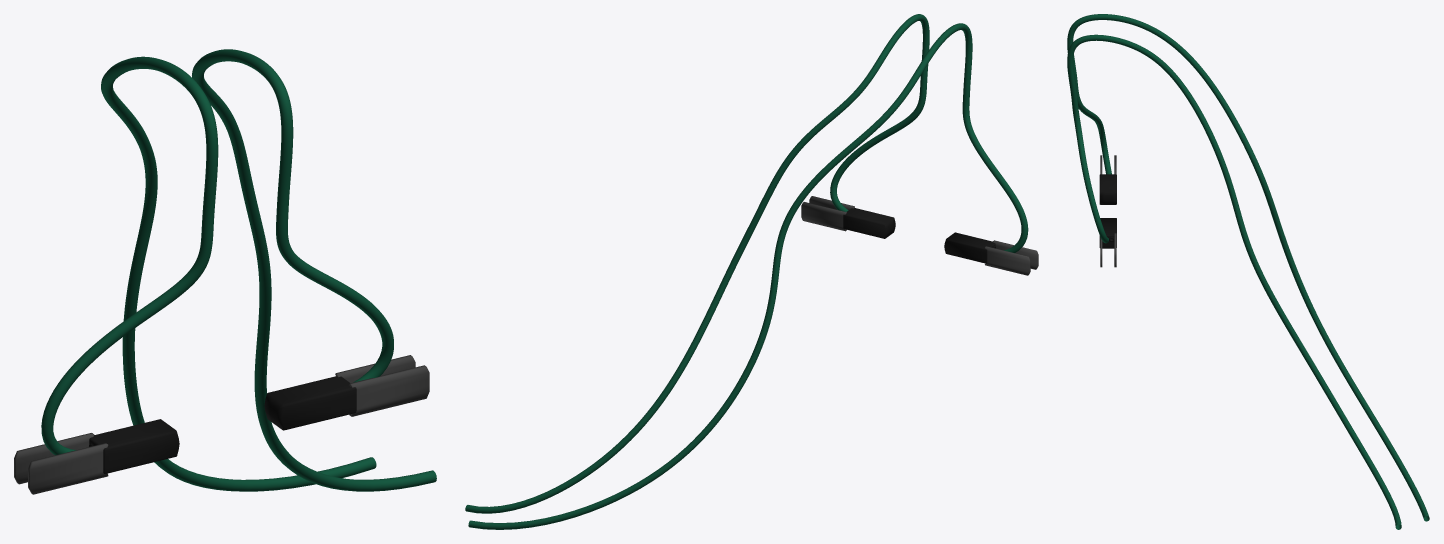
Rendered from Wires.fbx.
3 views of the same model, side by side, from view 1: azimuth 30°, elevation 25°; view 2: azimuth 150°, elevation 25°; view 3: azimuth 270°, elevation 25° (orthographic). The views are drawn at different scales.
Parts seen in each view (by area): view 1: wires; view 2: wires; view 3: wires.
Boxes of the visible parts, <box> form: wires: <box>14,49,436,494</box>; wires: <box>465,14,1038,529</box>; wires: <box>1067,14,1429,529</box>.
Size of the model in its own units: 73.9 by 76.74 by 66.11.
